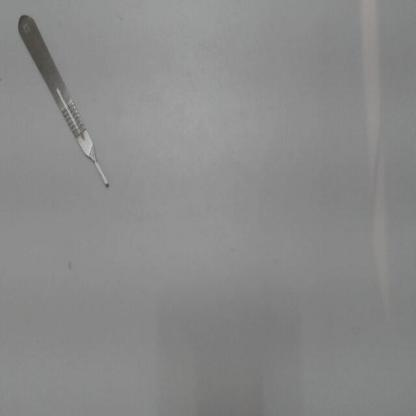No.3 BP Handle: (4, 5, 125, 208)
